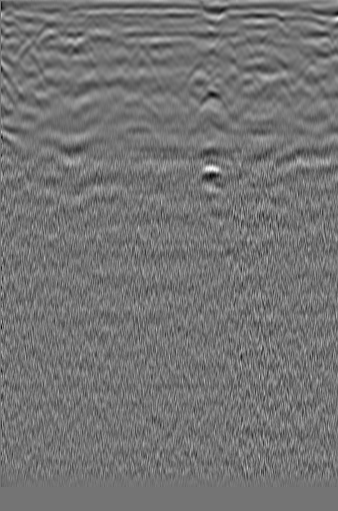가스: (187, 160, 227, 190)
상수: (292, 35, 324, 60)
오수: (12, 33, 46, 64)
우수: (144, 34, 177, 63)
